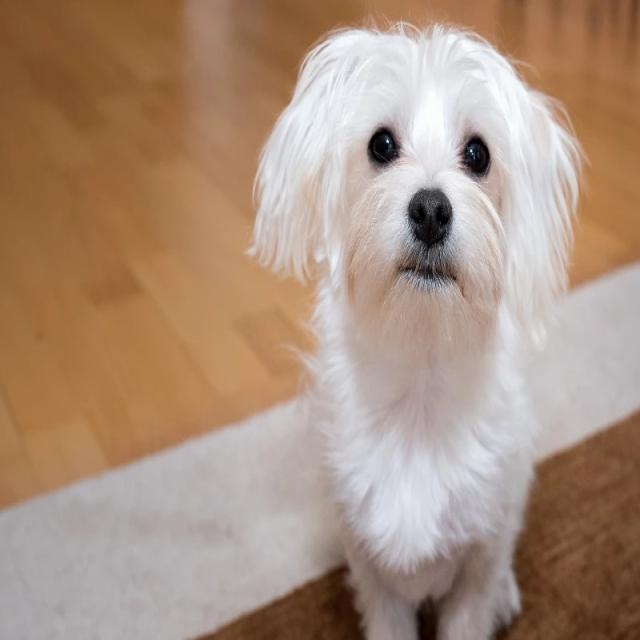maltese: (254, 11, 587, 640)
